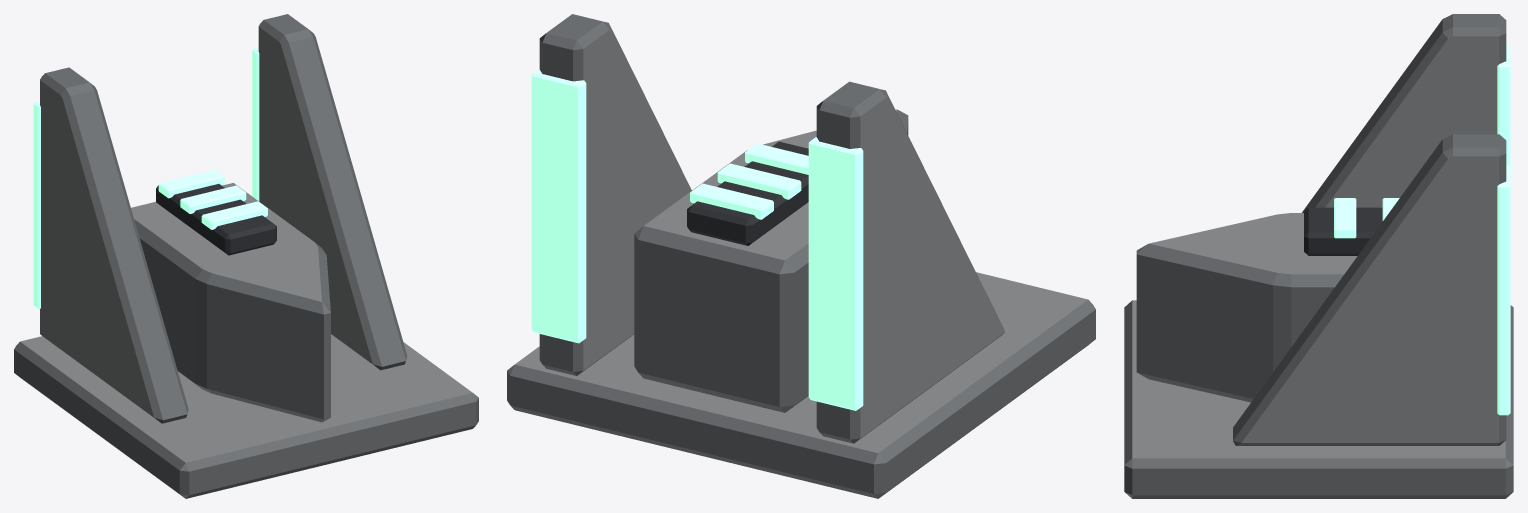
Rendered from R4X_MobilityBooster_LOD1.glb.
The picture shows the model from 3 angles, left to right: view 1: azimuth 30°, elevation 25°; view 2: azimuth 150°, elevation 25°; view 3: azimuth 270°, elevation 25°; orthographic projection. The views are drawn at different scales.
Visible parts, largest first — view 1: R4X_MobilityBooster_LOD1; view 2: R4X_MobilityBooster_LOD1; view 3: R4X_MobilityBooster_LOD1.
Boxes of the visible parts, left/top/right/bottom form: R4X_MobilityBooster_LOD1: left=14, top=14, right=478, bottom=498; R4X_MobilityBooster_LOD1: left=507, top=14, right=1095, bottom=498; R4X_MobilityBooster_LOD1: left=1124, top=14, right=1513, bottom=498.
Size of the model in its own units: 0.52 by 0.5 by 0.52.
